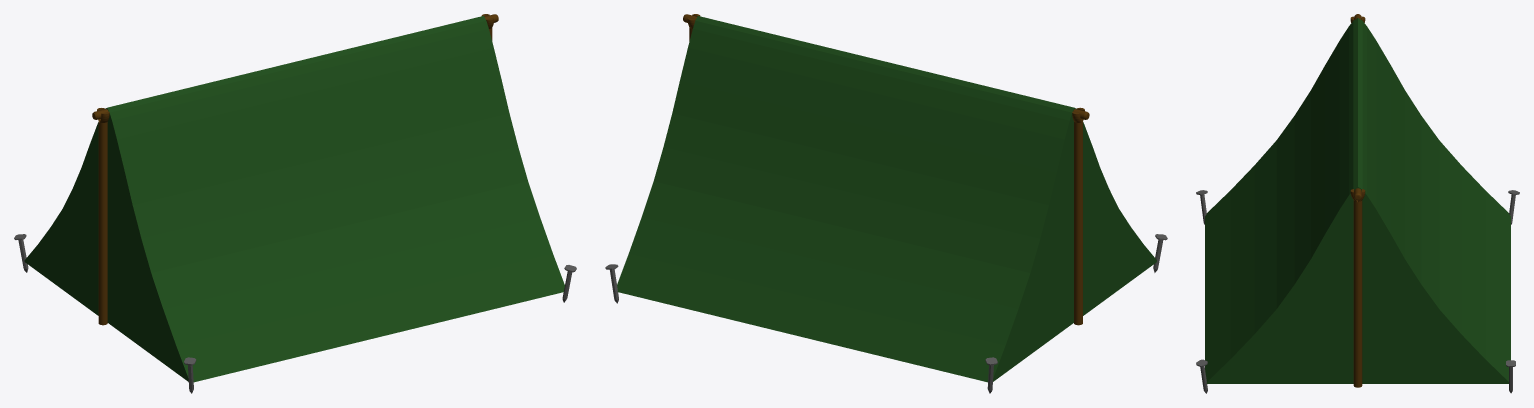
Rendered from Tent.fbx.
3 views of the same model, side by side, from view 1: azimuth 30°, elevation 25°; view 2: azimuth 150°, elevation 25°; view 3: azimuth 270°, elevation 25° (orthographic). The views are drawn at different scales.
Visible parts, largest first — view 1: Cube, Cylinder; view 2: Cube, Cylinder; view 3: Cube, Cylinder.001.
Part boxes in pixels (x1,y1,x2,y2): Cube: (24,16,564,382); Cylinder: (97,108,109,325); Cube: (617,16,1156,382); Cylinder: (1072,107,1084,325); Cube: (1205,18,1510,383); Cylinder.001: (1350,189,1365,387).
Size of the model in its own units: 420 by 225 by 317.
